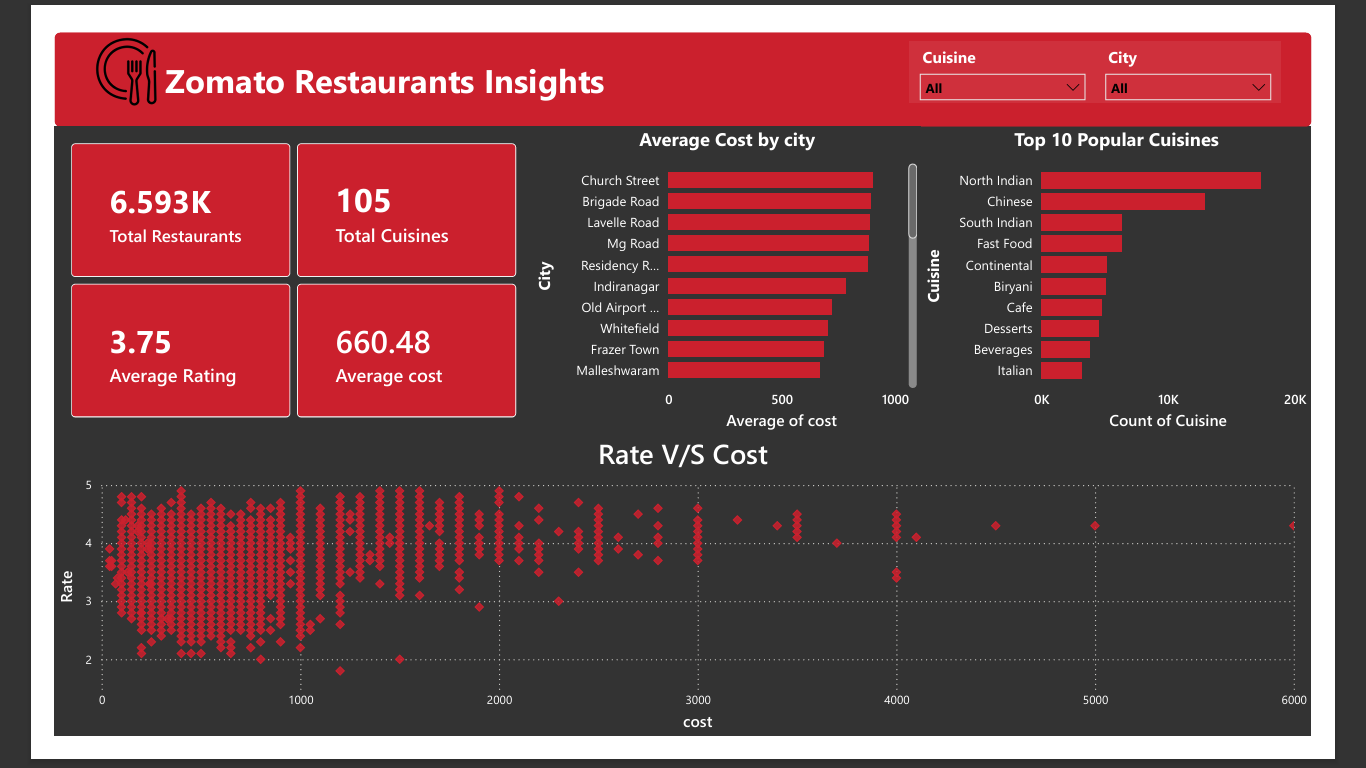

This screenshot's page, from the dashboard's own definition file:
{"tool":"powerbi","page":{"name":"Core Analysis","canvas":[1280,720],"ordinal":0},"visuals":[{"type":"clusteredBarChart","title":"Top 10 Popular Cuisines","fields":{"Category":["zomato_cleaned.cuisines"],"Y":["CountNonNull(zomato_cleaned.cuisines)"]},"box":[882.9,100,397.1,314.3],"z":0},{"type":"shape","box":[0,4.3,1280,95.7],"z":1000},{"type":"clusteredBarChart","title":"Average Cost by city","fields":{"Y":["Avg(zomato_cleaned.cost)"],"Category":["zomato_cleaned.listed_in(city)"]},"box":[487,100,395.7,314.5],"z":2000},{"type":"scatterChart","title":"Rate V/S Cost","fields":{"X":["zomato_cleaned.cost"],"Y":["zomato_cleaned.rate"]},"box":[0,414.1,1280.5,305.9],"z":3000},{"type":"cardVisual","fields":{"Data":["zomato_cleaned.Total Restaurants","zomato_cleaned.Total Cuisines","zomato_cleaned.Average Rating","zomato_cleaned.Average cost"]},"box":[0,100,487.2,314.1],"z":4000},{"type":"slicer","fields":{"Values":["zomato_cleaned.cuisines"]},"box":[871.4,12.9,188.6,62.9],"z":5000},{"type":"slicer","fields":{"Values":["zomato_cleaned.listed_in(city)"]},"box":[1060,12.9,188.6,62.9],"z":6000},{"type":"image","box":[0,4.8,146,77.8],"z":7000}]}

Visuals, with their boxes in screenshot pixels (x1, y1, x2, y2), scaled from the page's 1280x720 canvas onto the 1366x768 screenshot:
"Top 10 Popular Cuisines" clusteredBarChart: [x1=942, y1=107, x2=1365, y2=442]
shape: [x1=0, y1=5, x2=1365, y2=107]
"Average Cost by city" clusteredBarChart: [x1=520, y1=107, x2=942, y2=442]
"Rate V/S Cost" scatterChart: [x1=0, y1=442, x2=1365, y2=767]
cardVisual - zomato_cleaned.Total Restaurants x zomato_cleaned.Total Cuisines: [x1=0, y1=107, x2=520, y2=442]
slicer - zomato_cleaned.cuisines: [x1=930, y1=14, x2=1131, y2=81]
slicer - zomato_cleaned.listed_in(city): [x1=1131, y1=14, x2=1332, y2=81]
image: [x1=0, y1=5, x2=156, y2=88]
